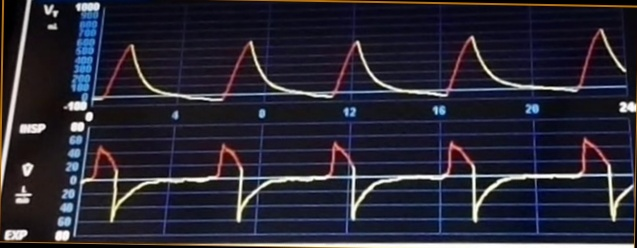Normal Flow: (88, 132, 637, 231)
Normal Volume: (99, 27, 628, 102)
